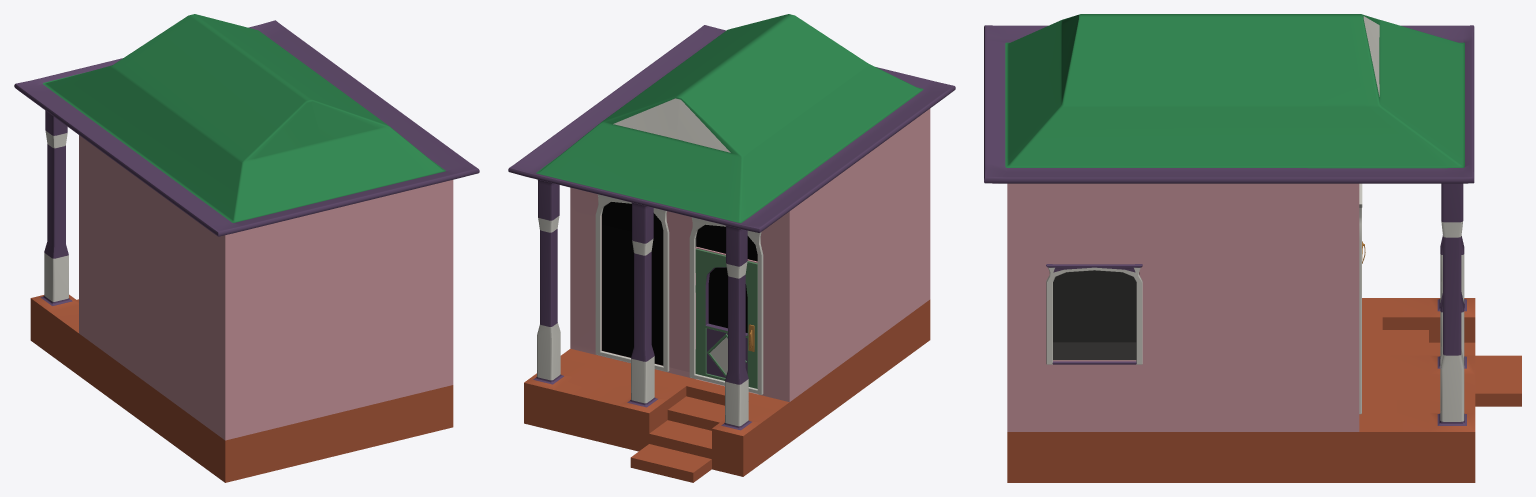
The model's file is Enviro_Building_CreoleHouse1_Untextured.fbx.
The picture shows the model from 3 angles, left to right: view 1: azimuth 30°, elevation 25°; view 2: azimuth 150°, elevation 25°; view 3: azimuth 270°, elevation 25°; orthographic projection. The views are drawn at different scales.
Visible parts, largest first — view 1: Shotgun_MainHouse; view 2: Shotgun_MainHouse, Shotgun_Door, Shotgun_Tallframe1, Shotgun_TallFrame; view 3: Shotgun_MainHouse, Shotgun_ShortFrame, Shotgun_TallFrame.
Part boxes in pixels (bbox=[...]): Shotgun_MainHouse: bbox=[14, 14, 479, 482]; Shotgun_MainHouse: bbox=[508, 14, 955, 482]; Shotgun_Door: bbox=[695, 248, 757, 388]; Shotgun_Tallframe1: bbox=[689, 217, 763, 394]; Shotgun_TallFrame: bbox=[595, 194, 669, 371]; Shotgun_MainHouse: bbox=[984, 14, 1521, 482]; Shotgun_ShortFrame: bbox=[1046, 264, 1142, 364]; Shotgun_TallFrame: bbox=[1359, 183, 1362, 414].
Size of the model in its own units: 5.16 by 6.27 by 7.64.
